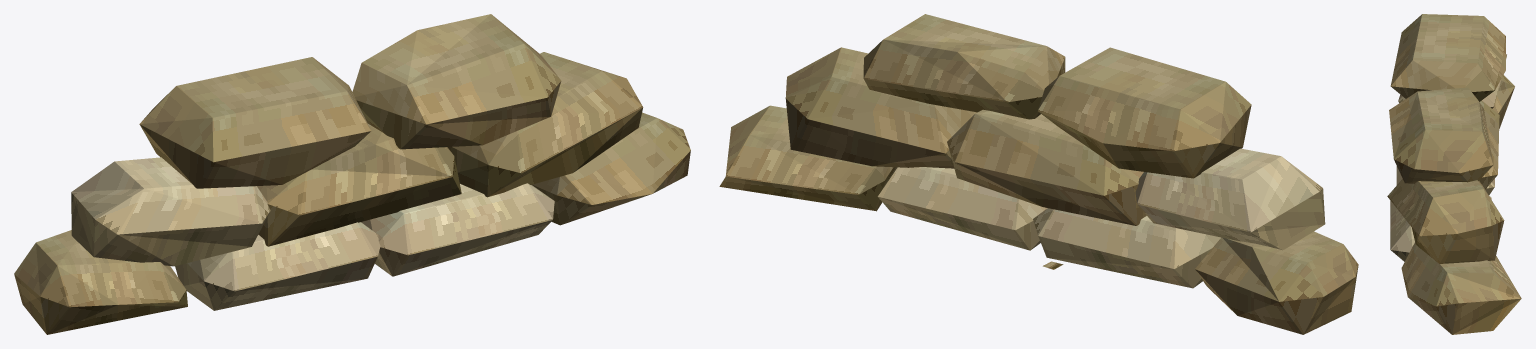
File: C2SMTSNDB1H.obj
The picture shows the model from 3 angles, left to right: view 1: azimuth 30°, elevation 25°; view 2: azimuth 150°, elevation 25°; view 3: azimuth 270°, elevation 25°; orthographic projection. The views are drawn at different scales.
Visible parts, largest first — view 1: Node 7, Node 5, Node 6; view 2: Node 7, Node 5, Node 6; view 3: Node 5, Node 7, Node 6.
Boxes of the visible parts, left/top/right/bottom form: Node 7: left=175, top=52, right=690, bottom=310; Node 5: left=139, top=14, right=561, bottom=188; Node 6: left=14, top=157, right=270, bottom=334; Node 7: left=719, top=47, right=1220, bottom=288; Node 5: left=863, top=14, right=1251, bottom=178; Node 6: left=1135, top=148, right=1358, bottom=334; Node 5: left=1389, top=14, right=1505, bottom=183; Node 7: left=1387, top=100, right=1521, bottom=334; Node 6: left=1398, top=54, right=1514, bottom=128.
Bounding box in the file's own units: 3.5 × 1.11 × 0.85.
Materials: 6 (6 with a texture image).
